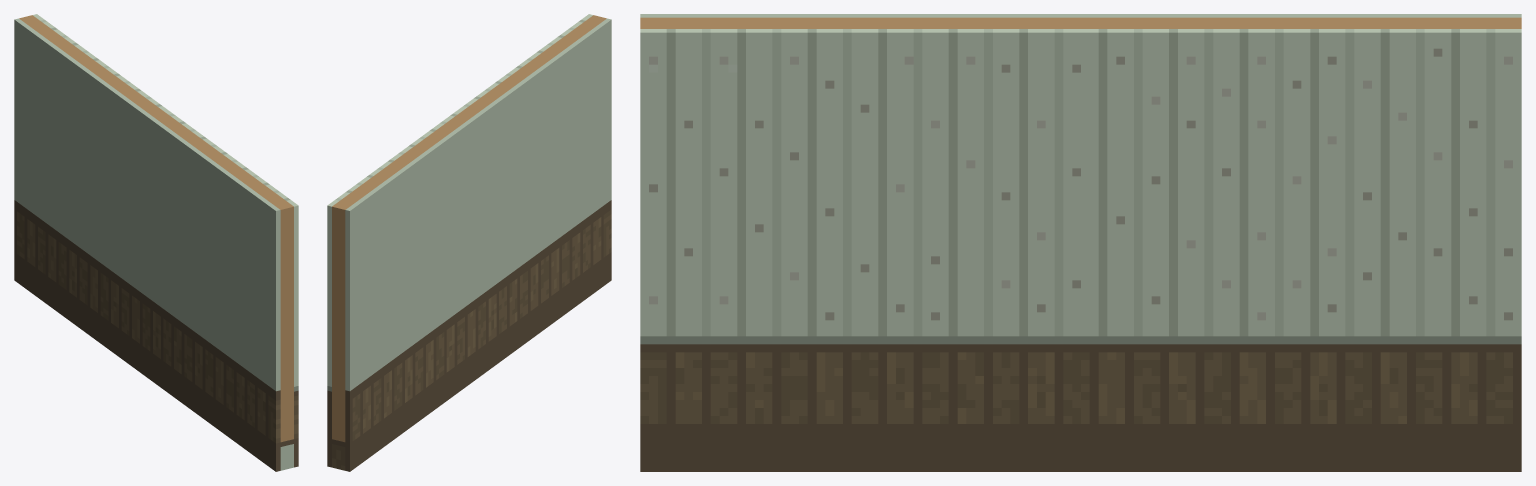
File: House Interior Rooms - Free Sample-16.obj
3 renders of one model, left to right at view 1: azimuth 30°, elevation 25°; view 2: azimuth 150°, elevation 25°; view 3: azimuth 270°, elevation 25°, orthographic. The views are drawn at different scales.
Size of the model in its own units: 0.1 by 1.1 by 2.
Materials: 1 (1 with a texture image).
